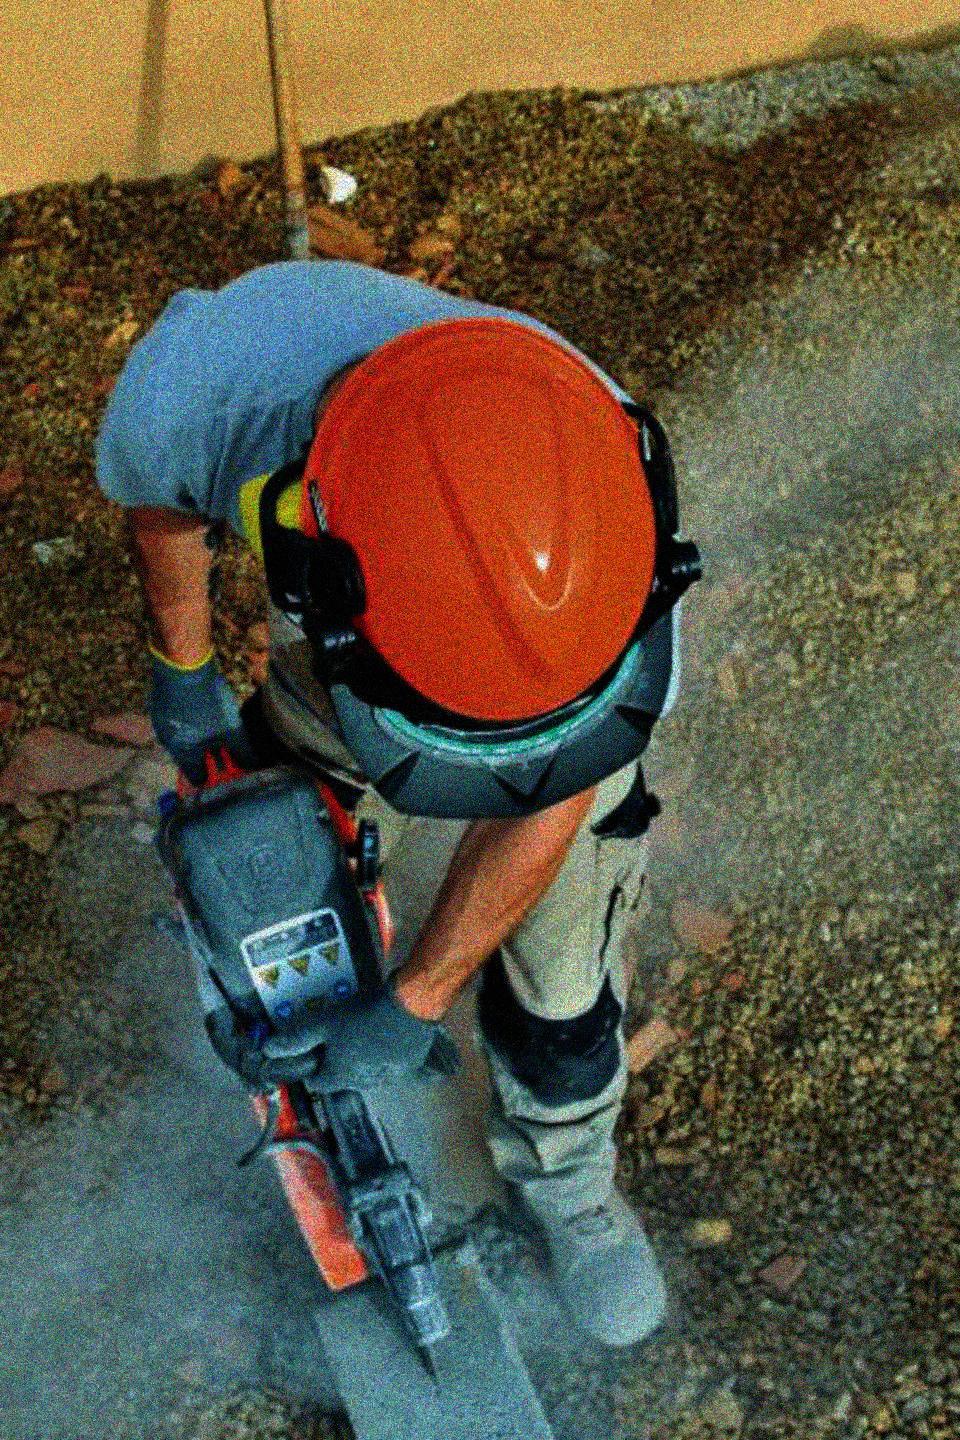helmet: (271, 310, 709, 800)
